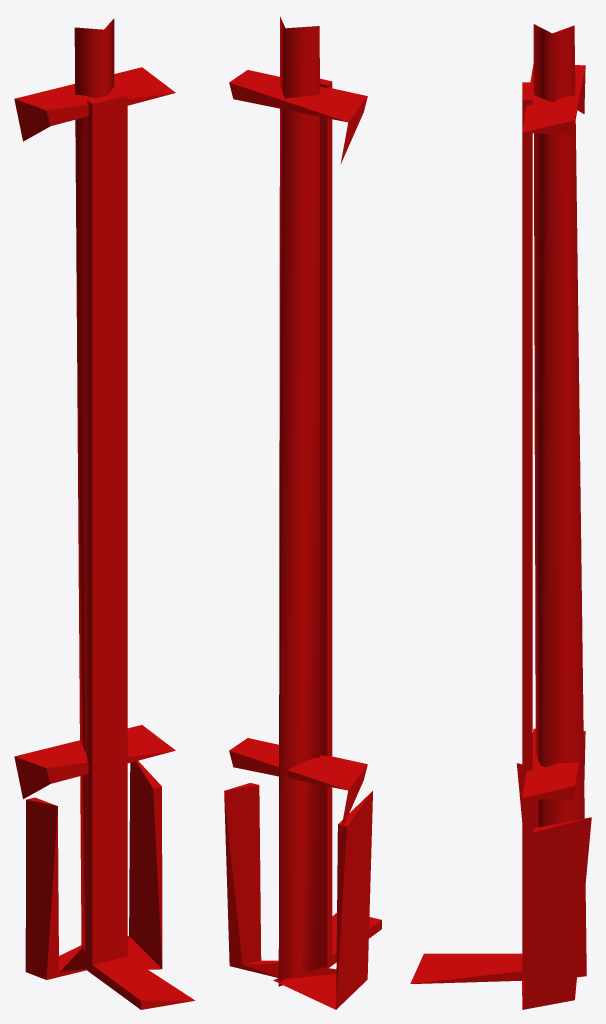
3 views of the same model, side by side, from view 1: azimuth 30°, elevation 25°; view 2: azimuth 150°, elevation 25°; view 3: azimuth 270°, elevation 25° (orthographic).
Parts seen in each view (by area): view 1: Mesh; view 2: Mesh; view 3: Mesh.
Boxes of the visible parts, bbox=[...] form: Mesh: bbox=[14, 18, 195, 1009]; Mesh: bbox=[224, 16, 381, 1009]; Mesh: bbox=[410, 24, 591, 1009].
Size of the model in its own units: 0.1643 by 1.14 by 0.1959.
